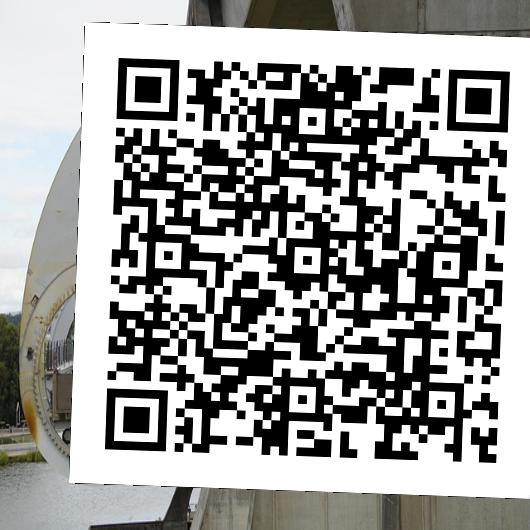qr_code: (69, 30, 529, 490)
